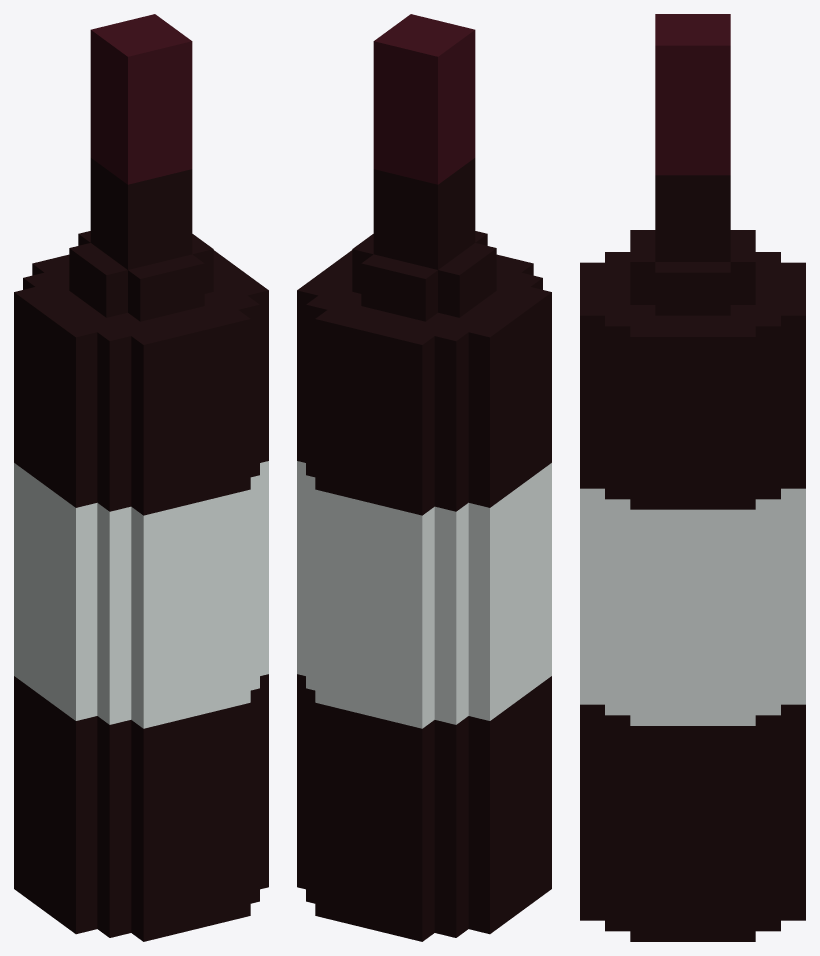
The model's file is vin2.fbx.
3 renders of one model, left to right at view 1: azimuth 30°, elevation 25°; view 2: azimuth 150°, elevation 25°; view 3: azimuth 270°, elevation 25°, orthographic.
Visible parts, largest first — view 1: Vin2; view 2: Vin2; view 3: Vin2.
Boxes of the visible parts, x1,y1,x2,y2 form: Vin2: (14,14,268,941); Vin2: (297,14,551,941); Vin2: (580,14,805,941).
Size of the model in its own units: 9 by 38 by 9.
Materials: 1 (1 with a texture image).
